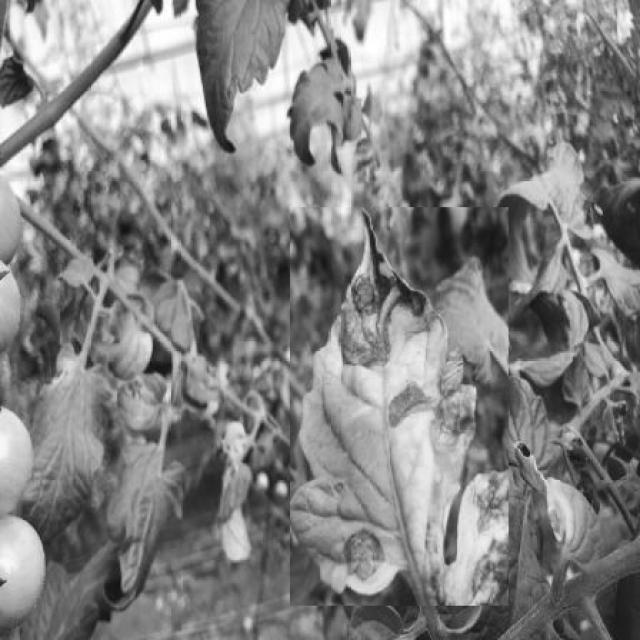Early Blight: (290, 207, 509, 606)
